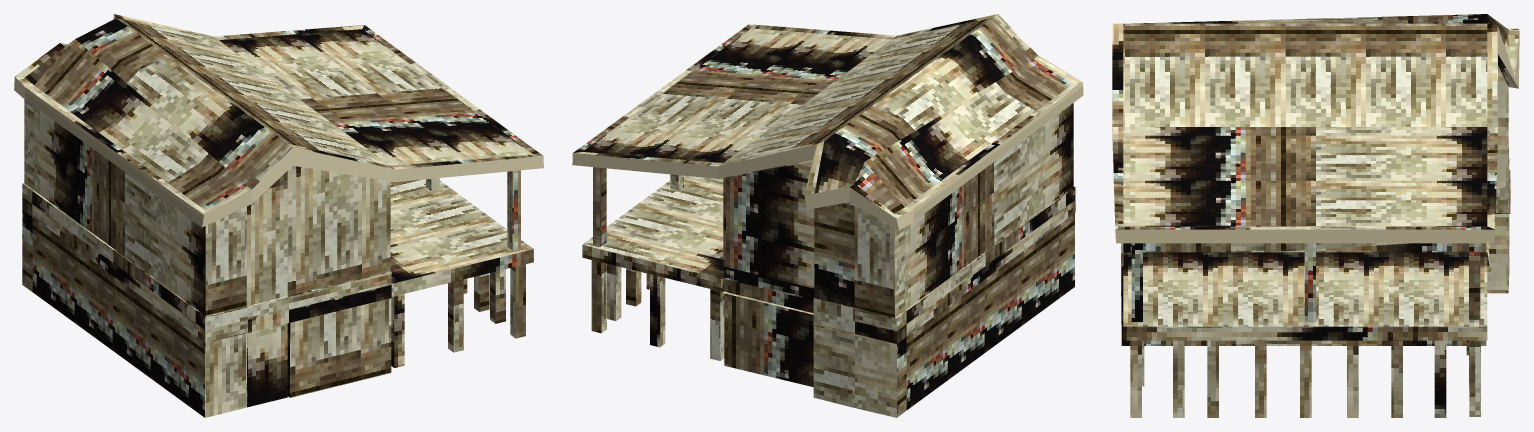
The model's file is house3.fbx.
3 views of the same model, side by side, from view 1: azimuth 30°, elevation 25°; view 2: azimuth 150°, elevation 25°; view 3: azimuth 270°, elevation 25° (orthographic). The views are drawn at different scales.
Visible parts, largest first — view 1: House3; view 2: House3; view 3: House3.
Boxes of the visible parts, x1,y1,x2,y2 form: House3: (14,14,543,417); House3: (572,14,1083,417); House3: (1112,14,1519,417).
Bounding box in the file's own units: 3898 × 2751 × 3769.
Materials: 1 (1 with a texture image).
